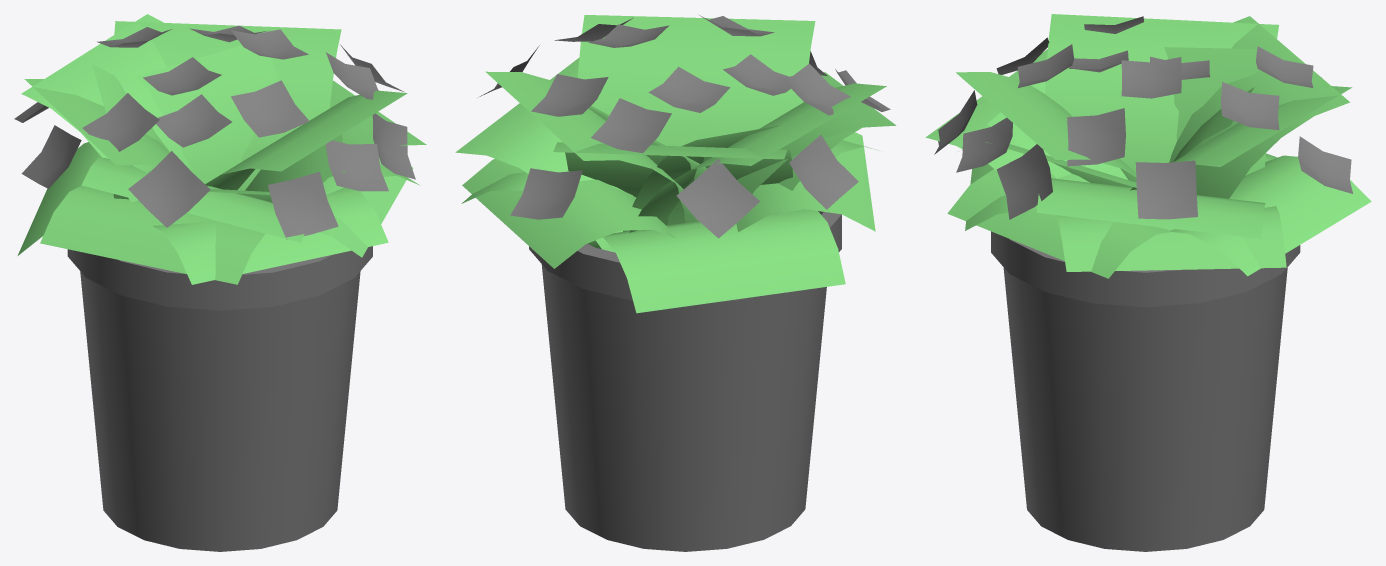
File: SM_flowerpot_05.fbx
3 views of the same model, side by side, from view 1: azimuth 30°, elevation 25°; view 2: azimuth 150°, elevation 25°; view 3: azimuth 270°, elevation 25° (orthographic). The views are drawn at different scales.
Parts seen in each view (by area): view 1: Cylinder183; view 2: Cylinder183; view 3: Cylinder183.
Part boxes in pixels (x1,y1,x2,y2): Cylinder183: (14,14,426,551); Cylinder183: (455,15,896,551); Cylinder183: (925,14,1371,551).
Size of the model in its own units: 18.73 by 22.16 by 19.58.
